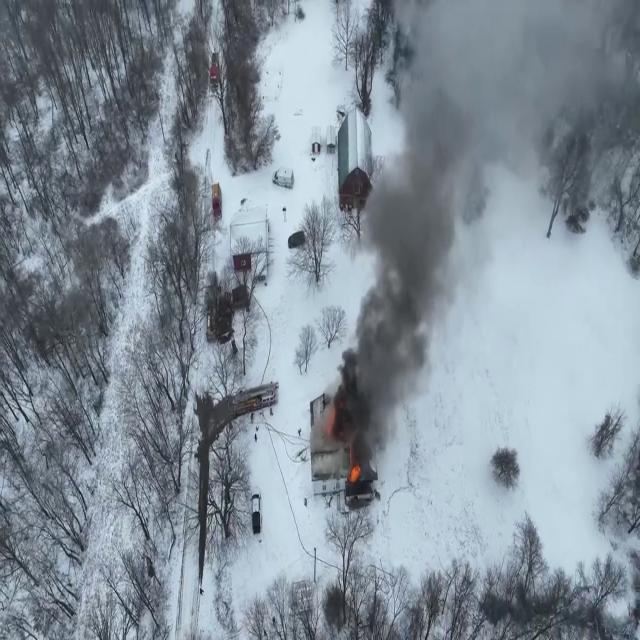Smoke: (328, 0, 640, 444), (328, 1, 501, 442)
